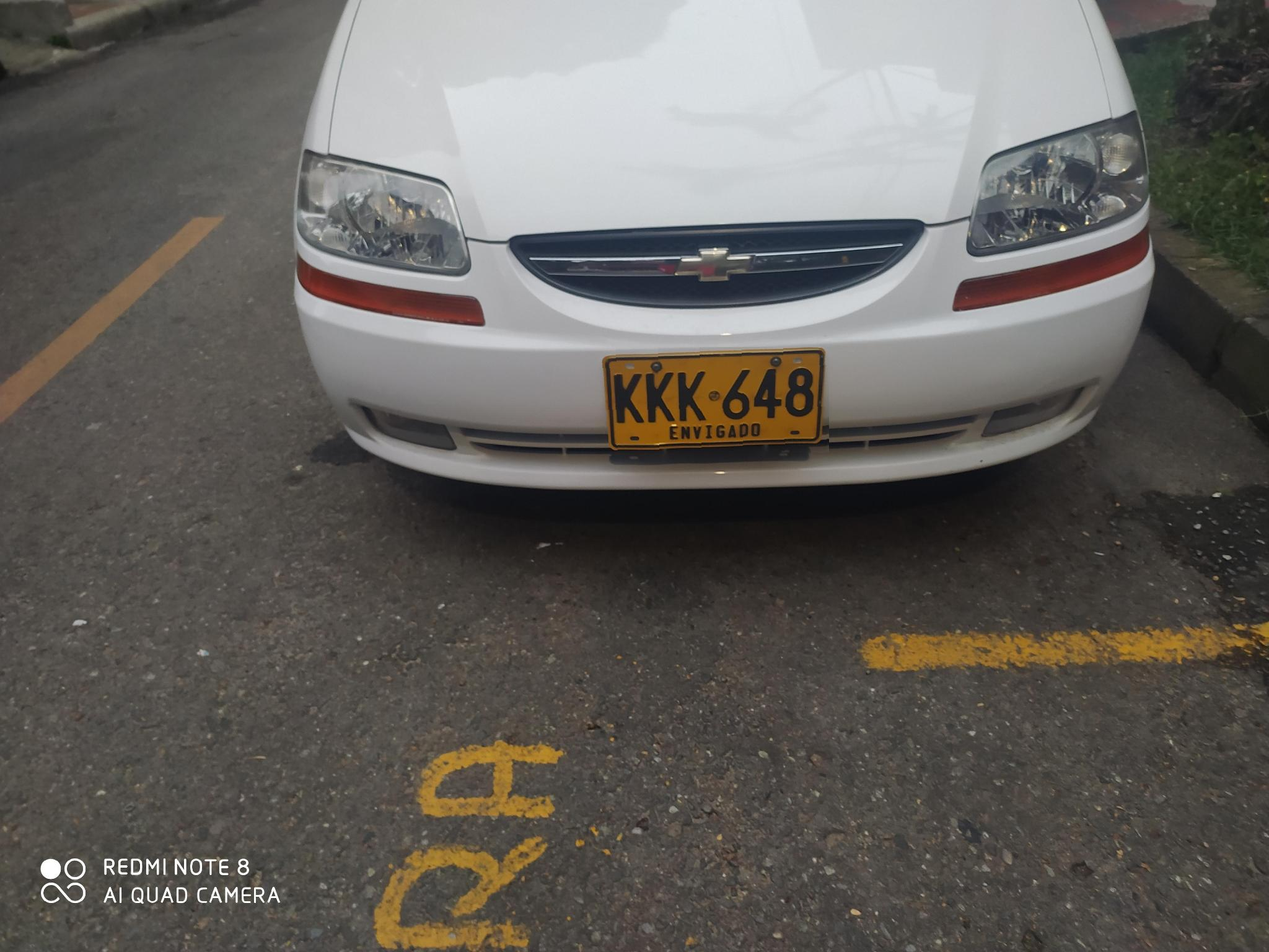placa: (595, 347, 829, 456)
